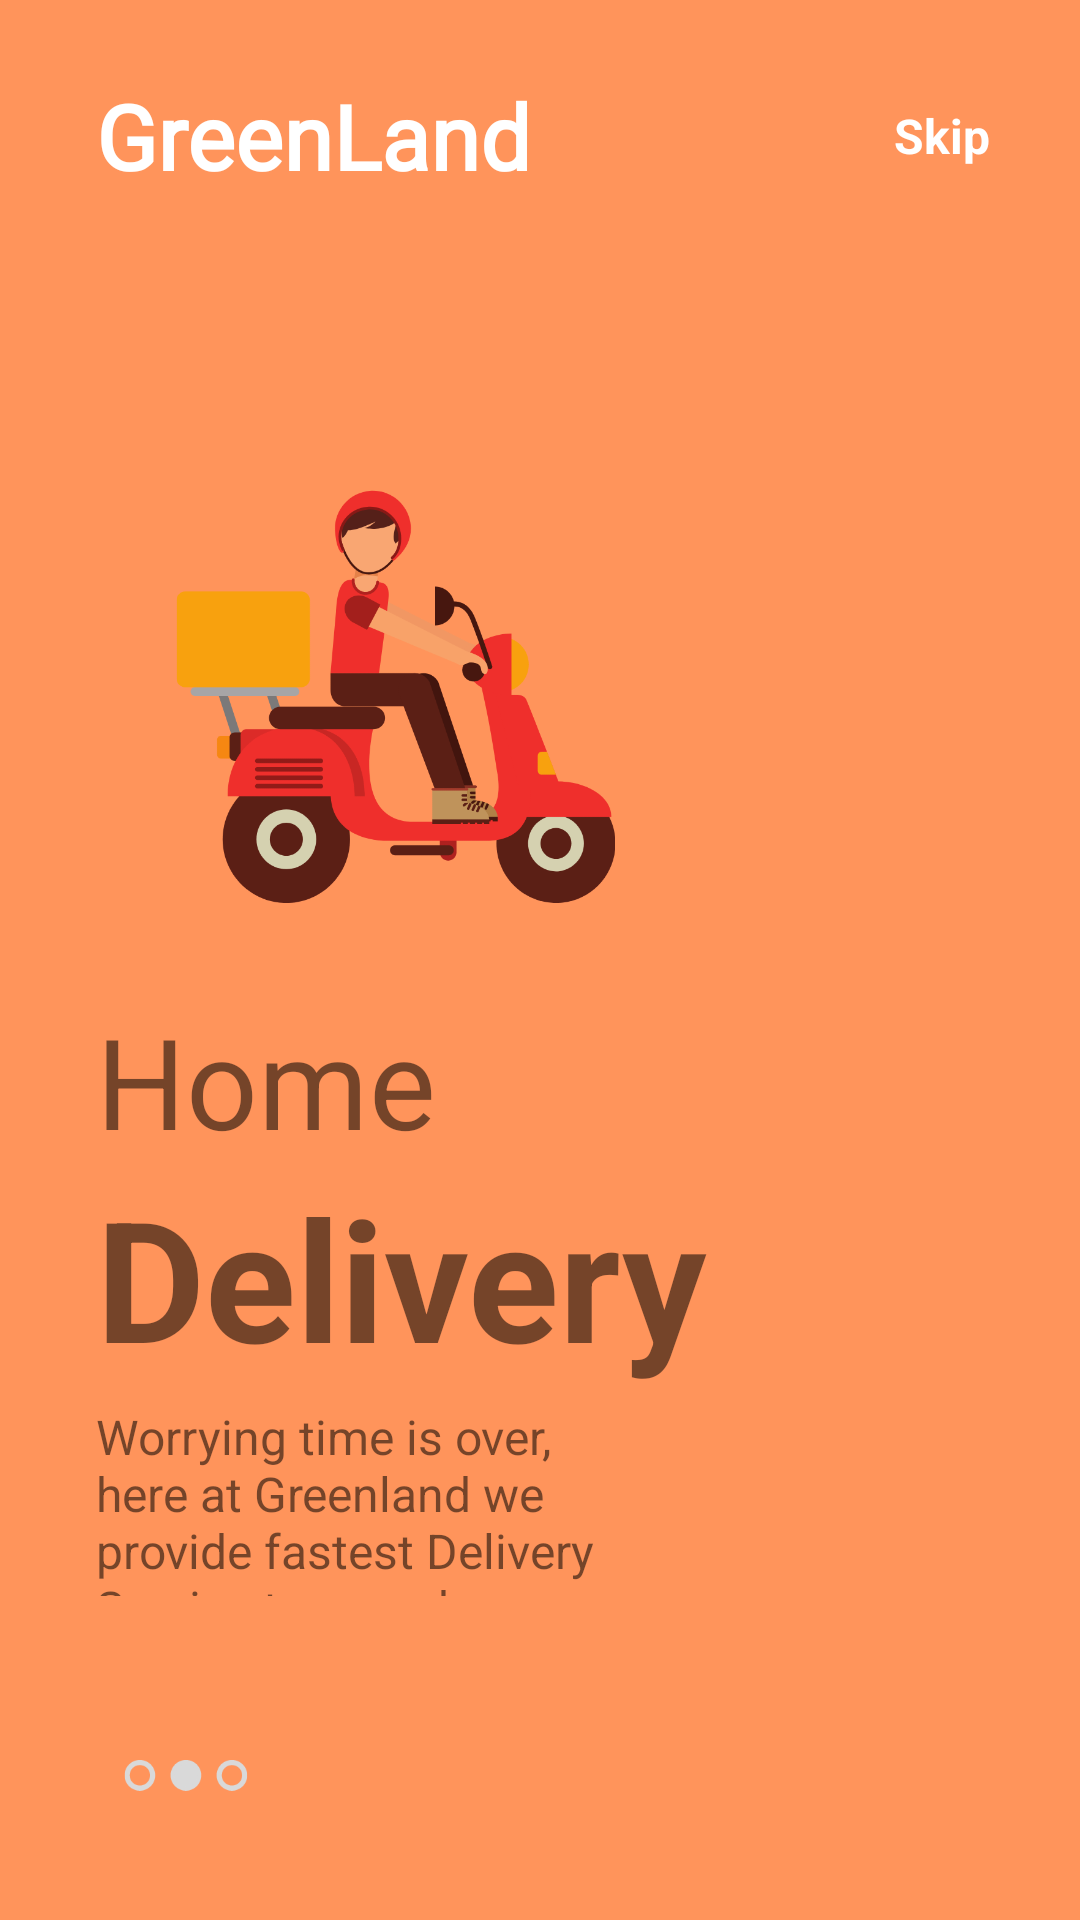

Screen size 1080px×1920px. Icon name, then its box in pixels as region(x1, y1, x2, y2):
tab: region(125, 1760, 247, 1791)
